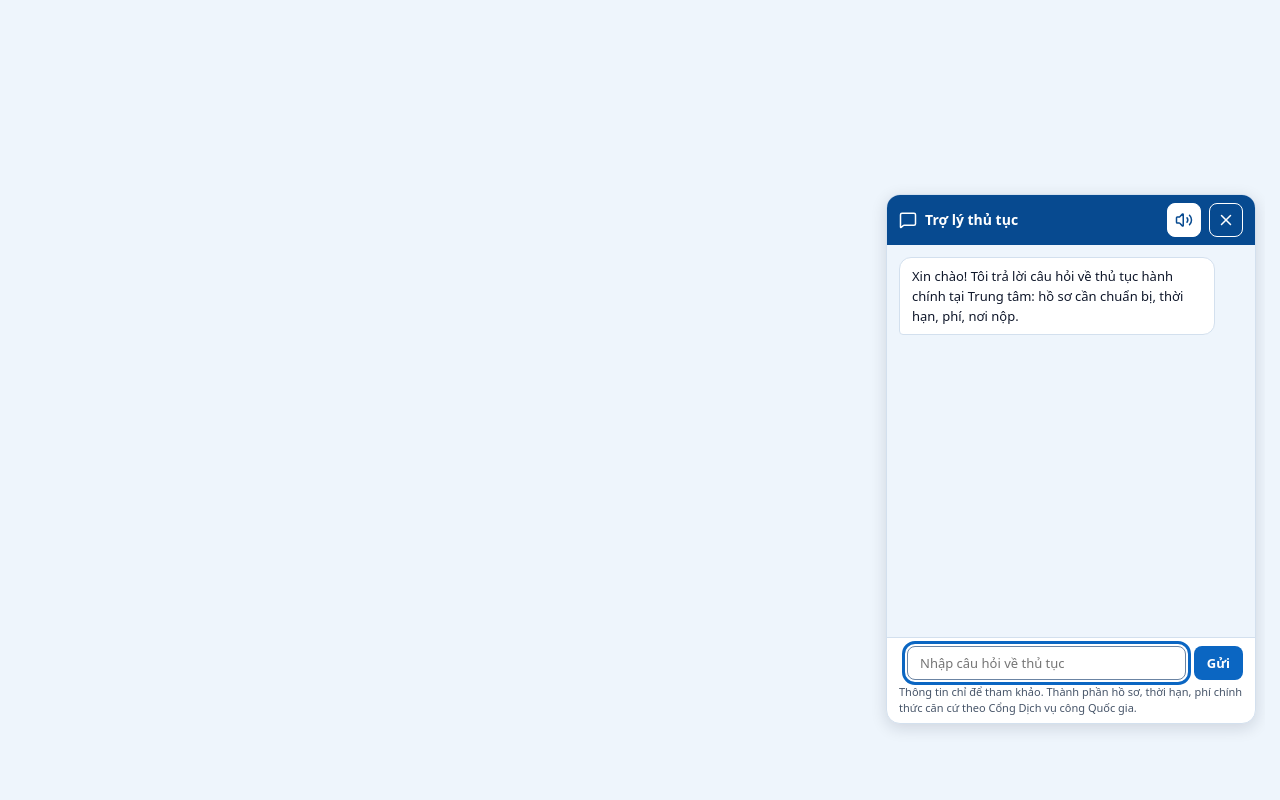
Test: KhungTroLy — lỗi › lỗi hệ thống: có mã tra cứu; mất mạng: câu mất kết nối
The image size is (1280, 800).
Type "câu một" into the field labelled "câu hỏi".
click(1046, 663); type("câu một")  # box [907,646,1186,680]
Then press Enter
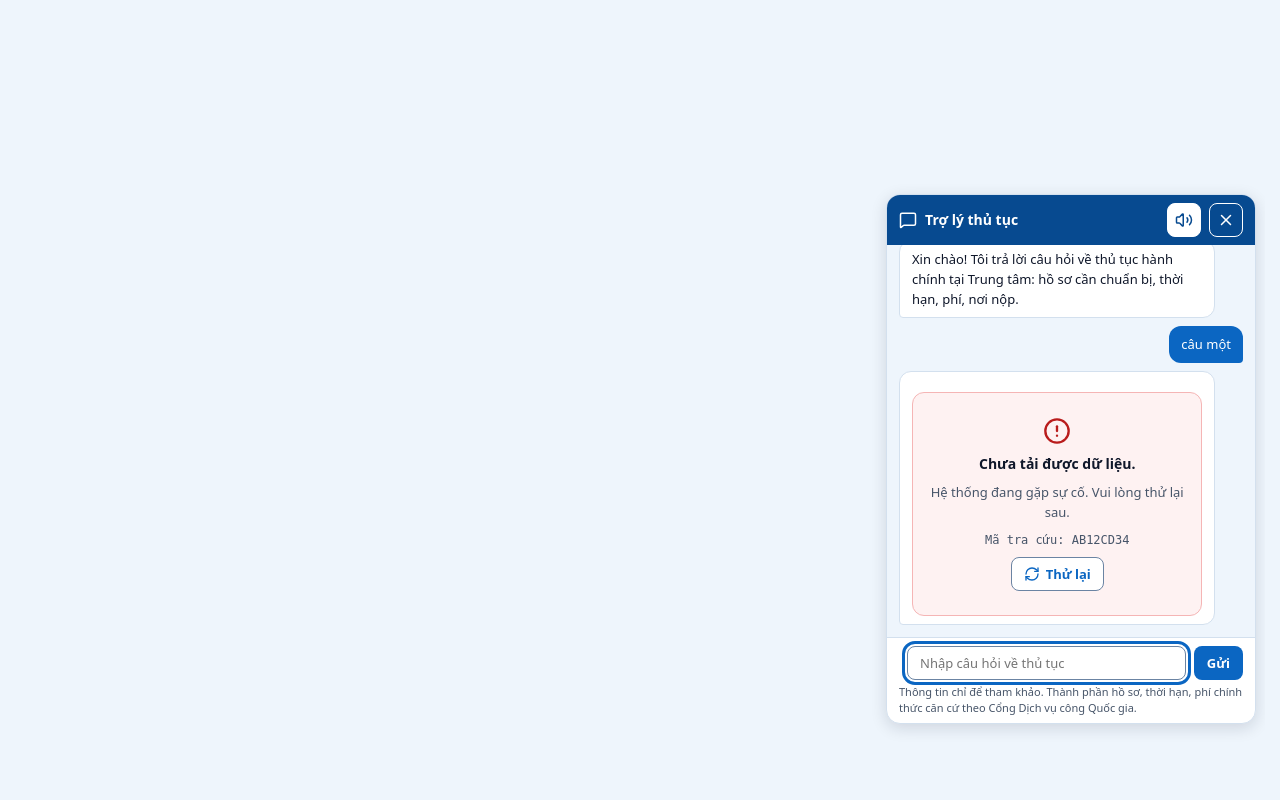
Check: the text "Hệ thống đang gặp sự cố. Vui lòng thử lại sau." is shown, box [929,482,1186,523]
Check: the text "Mã tra cứu: AB12CD34" is shown, box [985,530,1130,549]
Type "câu hai" into the field labelled "câu hỏi".
click(1046, 663); type("câu hai")  # box [907,646,1186,680]
Then press Enter
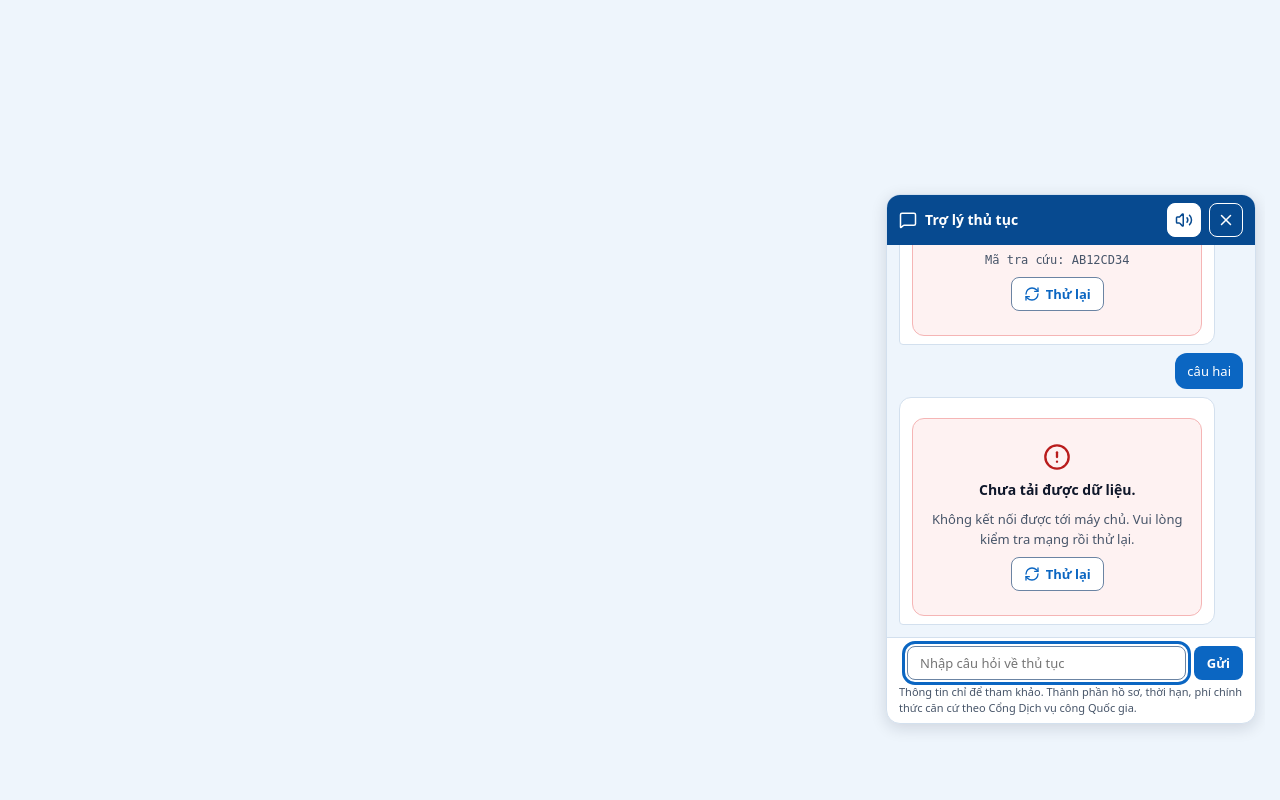
Check: the text "Không kết nối được tới máy chủ" is shown, box [932,510,1182,548]
